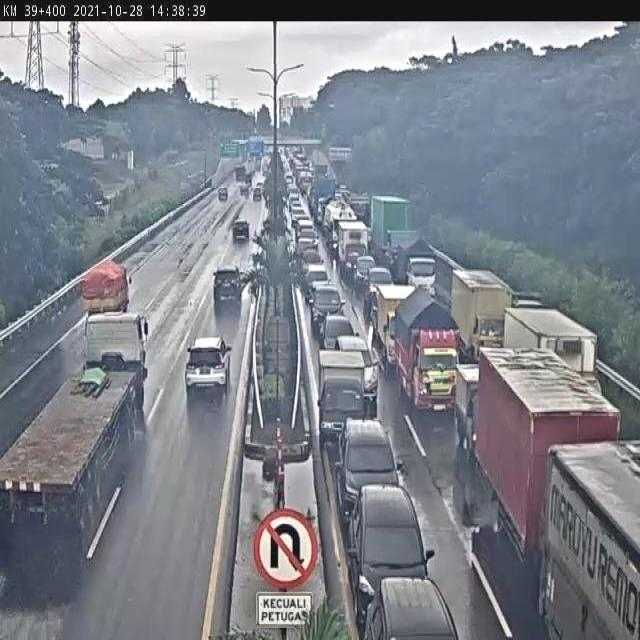Car: (345, 484, 435, 635), (335, 420, 400, 521), (334, 333, 382, 403), (183, 335, 232, 395), (308, 284, 344, 338), (321, 312, 358, 356), (210, 266, 244, 304), (362, 266, 394, 306), (303, 263, 329, 300), (353, 256, 377, 288), (296, 226, 322, 249), (231, 218, 252, 241), (295, 235, 314, 258), (217, 185, 228, 201), (252, 188, 262, 201), (240, 183, 250, 195), (255, 180, 264, 192)
Truck: (0, 308, 150, 529), (473, 341, 622, 561), (540, 442, 638, 637), (390, 290, 460, 416), (504, 306, 599, 388), (451, 270, 512, 363), (316, 349, 371, 440), (366, 283, 416, 377), (452, 359, 491, 454), (371, 195, 417, 270), (79, 258, 133, 314), (395, 232, 437, 292), (334, 218, 369, 282), (323, 200, 356, 261), (344, 188, 371, 228), (311, 178, 337, 218), (234, 165, 247, 182), (246, 159, 256, 174), (244, 171, 252, 185)
